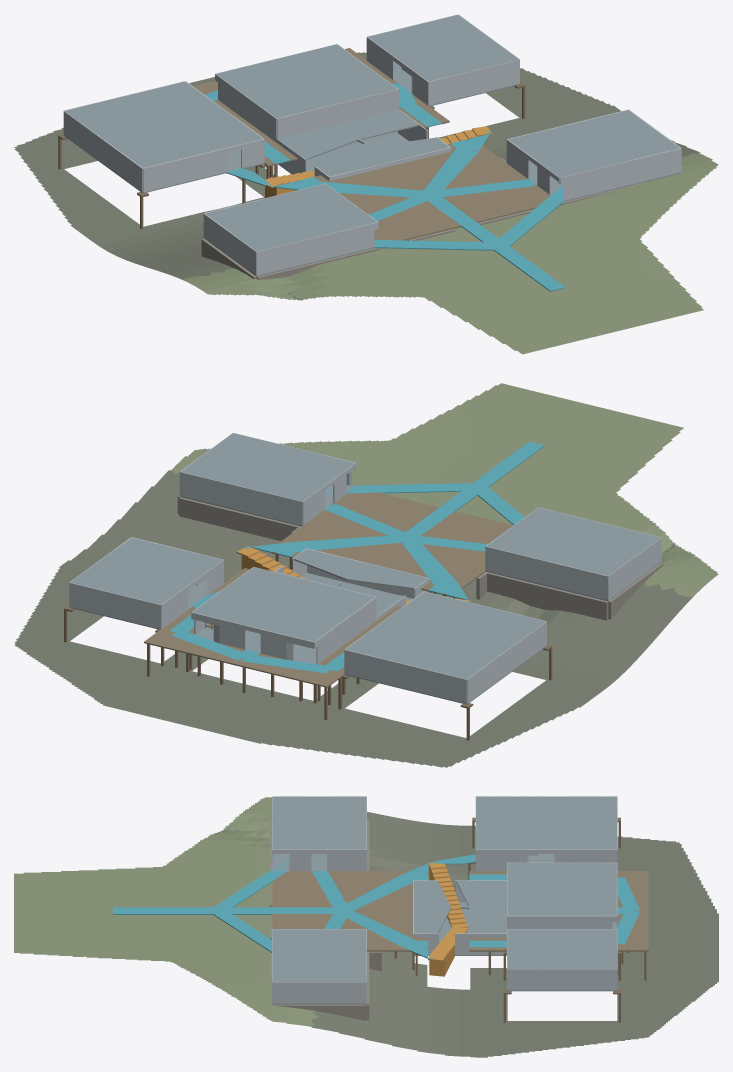
The model's file is supported-arrival.glb.
The picture shows the model from 3 angles, top to bottom: view 1: azimuth 30°, elevation 25°; view 2: azimuth 150°, elevation 25°; view 3: azimuth 270°, elevation 25°; orthographic projection. The views are drawn at different scales.
Parts seen in each view (by area): view 1: Saved editor macroterrain WLD-06, Ceiling cap boathouse, Ceiling cap fish, Ceiling cap cottage-a, Ceiling cap cottage-b, Ceiling cap net, Flat route shell Wall cottage-a S, Flat route shell Wall cottage-b S, Wall fish S, Wall net S, Flat route shell Wall boathouse S, Wall boathouse W (+23 smaller); view 2: Saved editor macroterrain WLD-06, Ceiling cap boathouse, Ceiling cap fish, Ceiling cap cottage-b, Ceiling cap cottage-a, Ceiling cap net, Wall cottage-a N, Wall boathouse N, Wall cottage-b N, Wall net N, Wall boathouse W, Flat route shell Wall fish W (+16 smaller); view 3: Saved editor macroterrain WLD-06, Ceiling cap boathouse, Ceiling cap fish, Ceiling cap cottage-a, Ceiling cap cottage-b, Ceiling cap net, Wall net E, Wall cottage-b E, Flat route shell Wall fish E, Flat route shell Wall boathouse E.001, Ceiling cap undercroft, Ceiling cap undercroft.004 (+20 smaller).
Boxes of the visible parts, <box> form: Saved editor macroterrain WLD-06: <box>14,52,718,354</box>; Ceiling cap boathouse: <box>64,81,263,167</box>; Ceiling cap fish: <box>216,44,397,118</box>; Ceiling cap cottage-a: <box>205,184,376,251</box>; Ceiling cap cottage-b: <box>508,110,679,177</box>; Ceiling cap net: <box>368,15,518,81</box>; Flat route shell Wall cottage-a S: <box>256,222,378,275</box>; Flat route shell Wall cottage-b S: <box>560,148,681,200</box>; Wall fish S: <box>277,89,398,138</box>; Wall net S: <box>428,59,519,105</box>; Flat route shell Wall boathouse S: <box>143,148,226,192</box>; Wall boathouse W: <box>63,111,142,192</box>; Saved editor macroterrain WLD-06: <box>14,383,718,767</box>; Ceiling cap boathouse: <box>345,591,545,678</box>; Ceiling cap fish: <box>192,567,375,641</box>; Ceiling cap cottage-b: <box>181,433,354,501</box>; Ceiling cap cottage-a: <box>486,507,660,575</box>; Ceiling cap net: <box>70,538,222,604</box>; Wall cottage-a N: <box>485,546,608,600</box>; Wall boathouse N: <box>344,649,466,703</box>; Wall cottage-b N: <box>180,471,302,525</box>; Wall net N: <box>69,582,161,628</box>; Wall boathouse W: <box>467,621,546,703</box>; Flat route shell Wall fish W: <box>314,597,376,664</box>; Saved editor macroterrain WLD-06: <box>14,797,718,1057</box>; Ceiling cap boathouse: <box>476,796,617,849</box>; Ceiling cap fish: <box>507,863,617,915</box>; Ceiling cap cottage-a: <box>272,796,366,849</box>; Ceiling cap cottage-b: <box>272,929,366,981</box>; Ceiling cap net: <box>507,929,617,968</box>; Wall net E: <box>507,968,617,990</box>; Wall cottage-b E: <box>272,982,366,1003</box>; Flat route shell Wall fish E: <box>507,915,617,928</box>; Flat route shell Wall boathouse E.001: <box>476,849,538,871</box>; Ceiling cap undercroft: <box>469,880,506,906</box>; Ceiling cap undercroft.004: <box>469,908,506,933</box>.
Bounding box in the file's own units: 70 × 7.86 × 90.
Materials: 28 (12 with a texture image).
